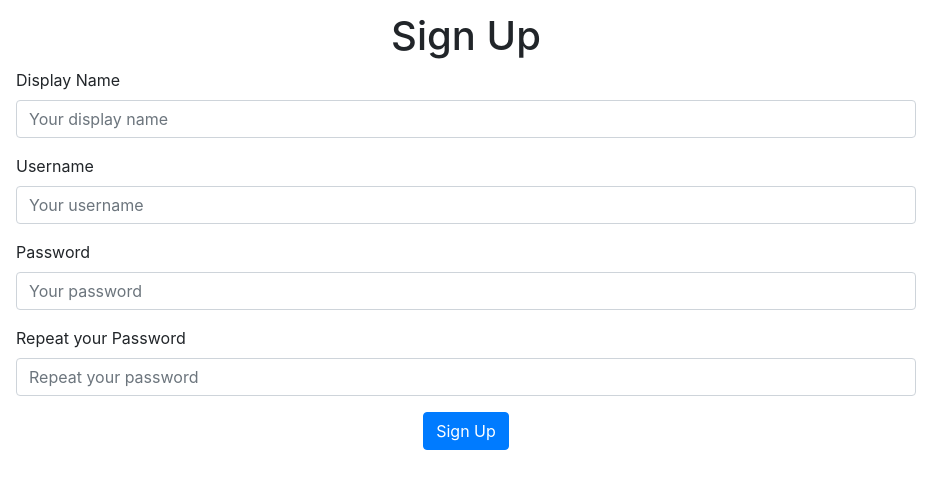
Test: UserSignupPage › Interactions › hides the validation error when user changes the content of username
Type "my-display-name" into the field with placeholder "Your display name" at (466, 119), box [16, 100, 916, 138]
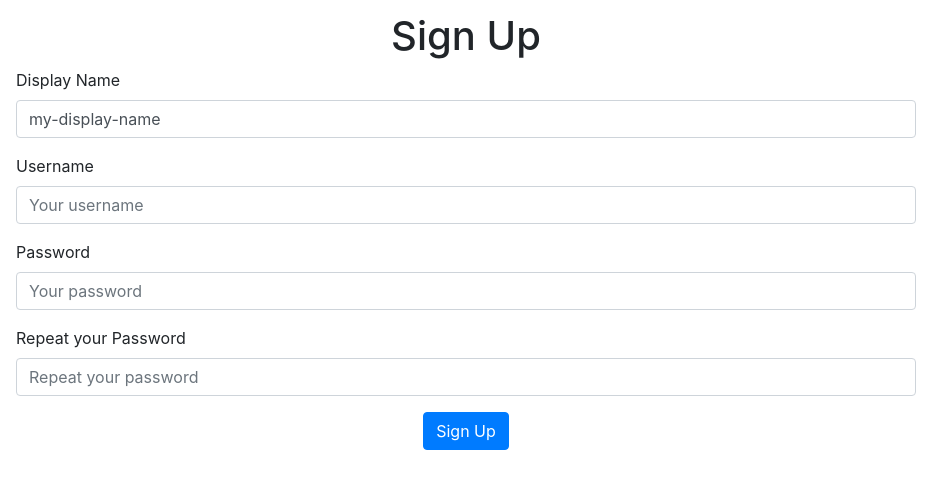
Type "my-username" into the field with placeholder "Your username" at (466, 205), box [16, 186, 916, 224]
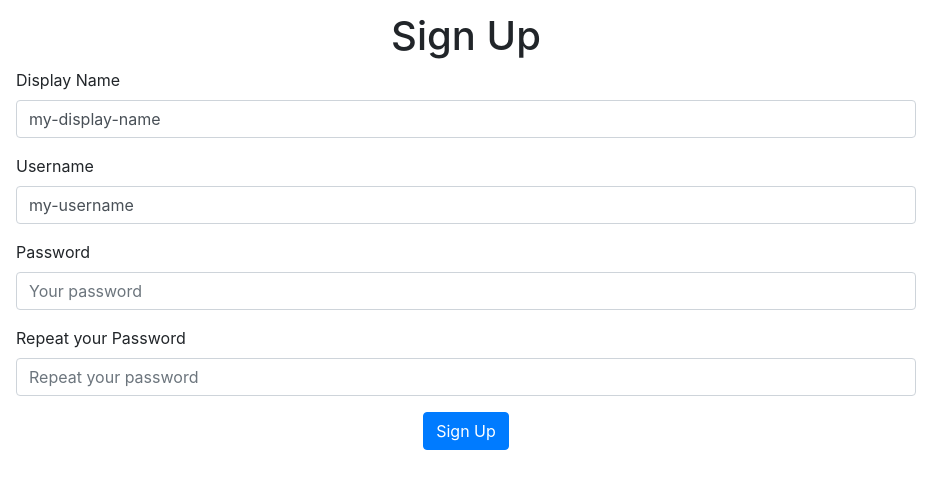
Type "P4ssword" into the password field with placeholder "Your password" at (466, 291), box [16, 272, 916, 310]
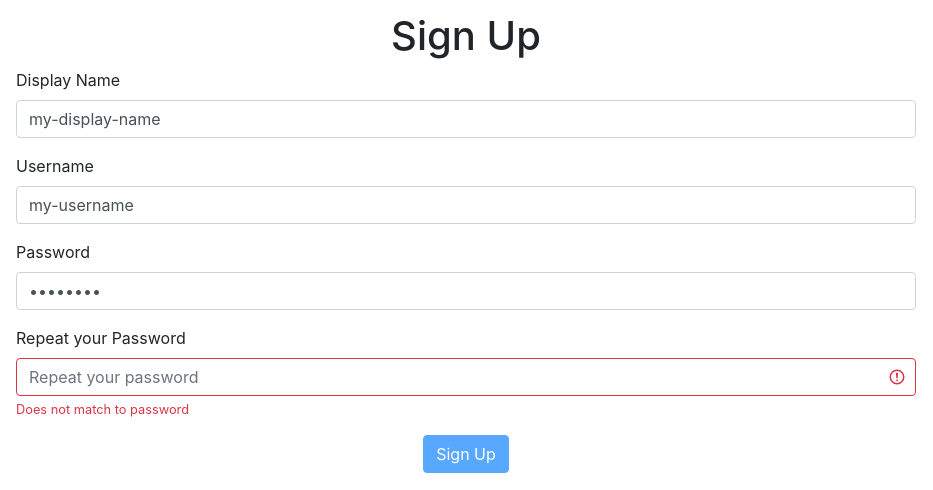
Type "P4ssword" into the password field with placeholder "Repeat your password" at (466, 377), box [16, 358, 916, 396]
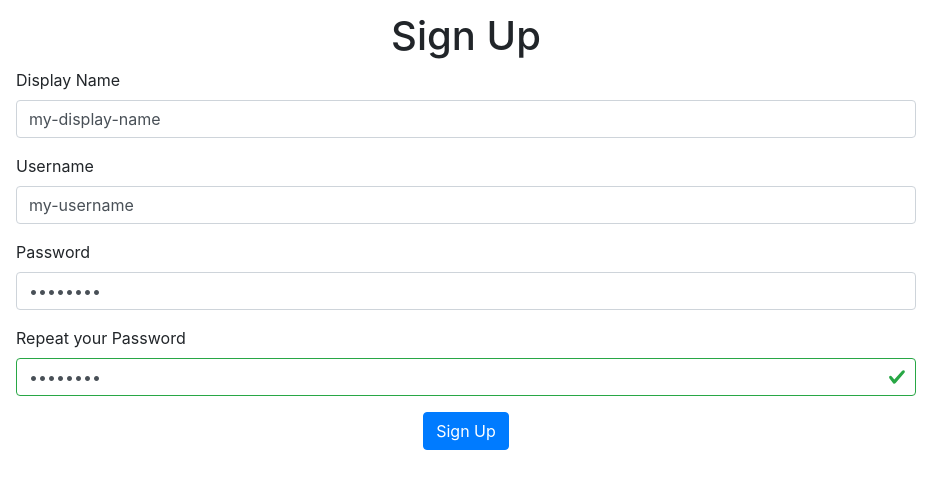
Click the button "Sign Up" at (466, 431), box [423, 412, 509, 450]
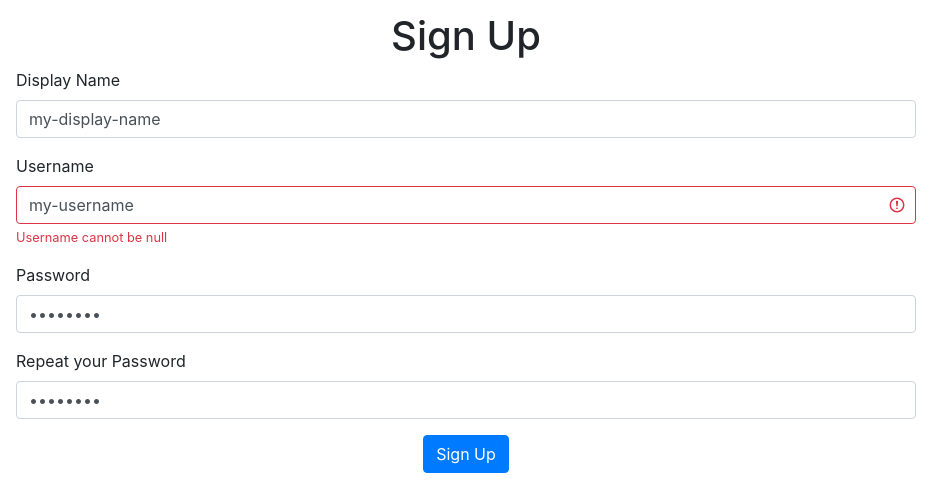
Replace the text in the 2nd field with placeholder "Your username" with "username updated" at (466, 205), box [16, 186, 916, 224]
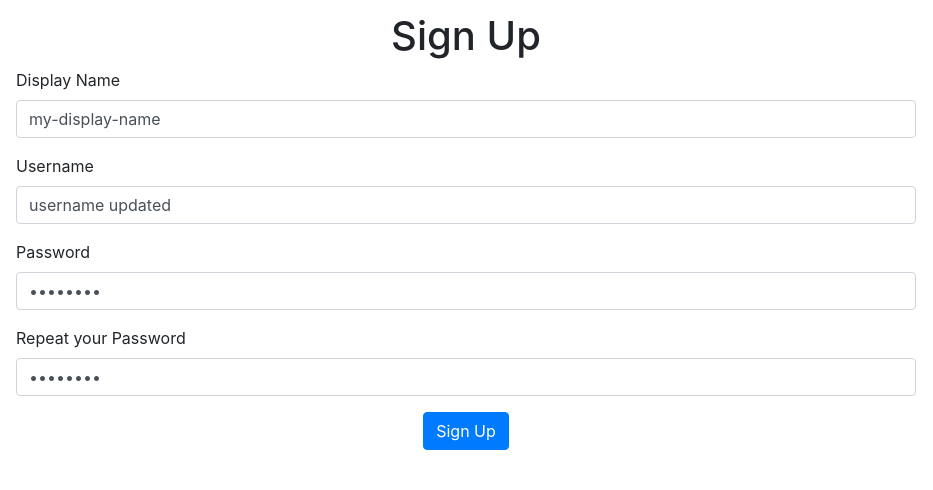
Result: the text "Username cannot be null" is gone
